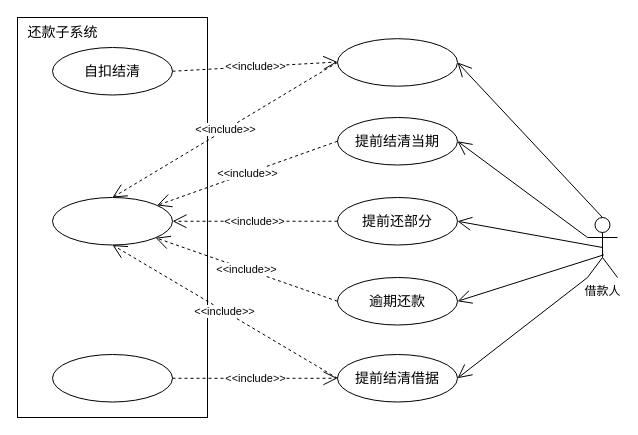
The diagram is 638 pixels wide and 435 high, and some of its shapes have lost their labels. The box of each missing label's shape, as (x1, y1, x2, y2) in pixels:
提前下账: (52, 354, 172, 402)
正常结清当期: (336, 38, 458, 86)
还款试算: (52, 196, 172, 245)
